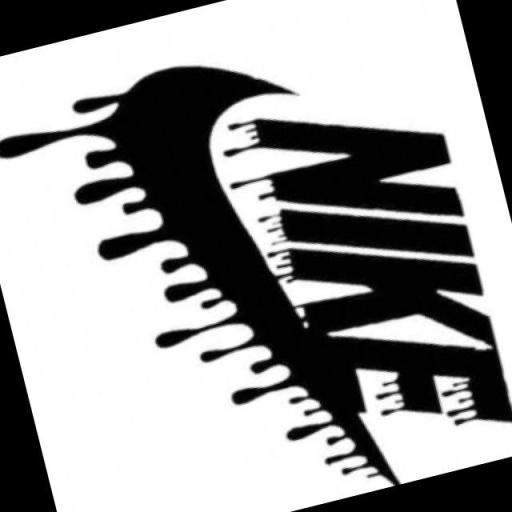Nike: (98, 29, 402, 512), (242, 72, 512, 471)
